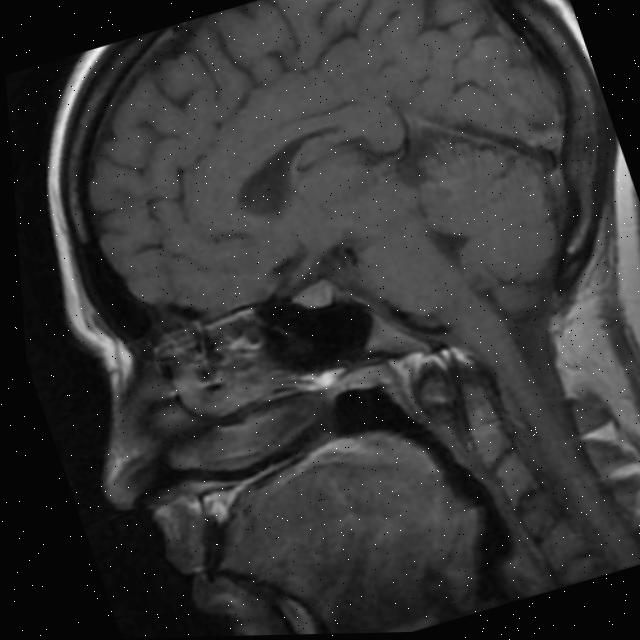Pituitary: (284, 274, 342, 316)
